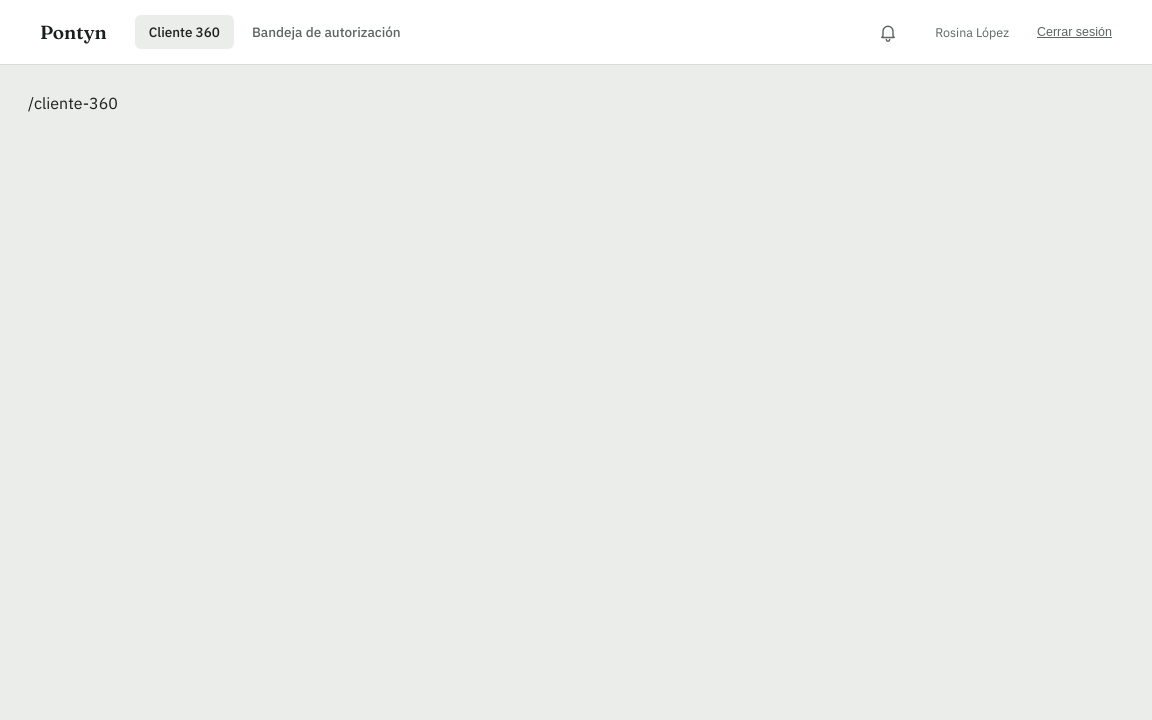
Test: AppShell — campana de alertas › estado vacío: explica cuándo va a aparecer algo y no ofrece marcar todas
Click the button named "Alertas" at [888, 32], box [869,13,907,51]
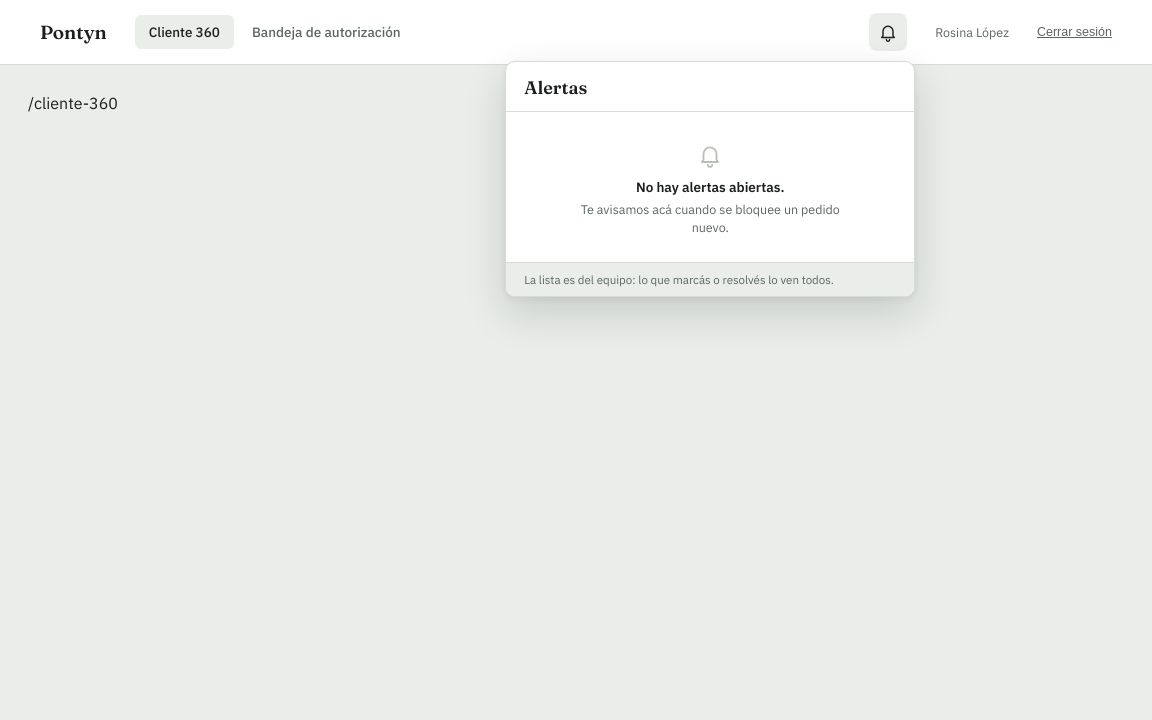
Result: the text "No hay alertas abiertas." is shown at [636,178,784,196]
